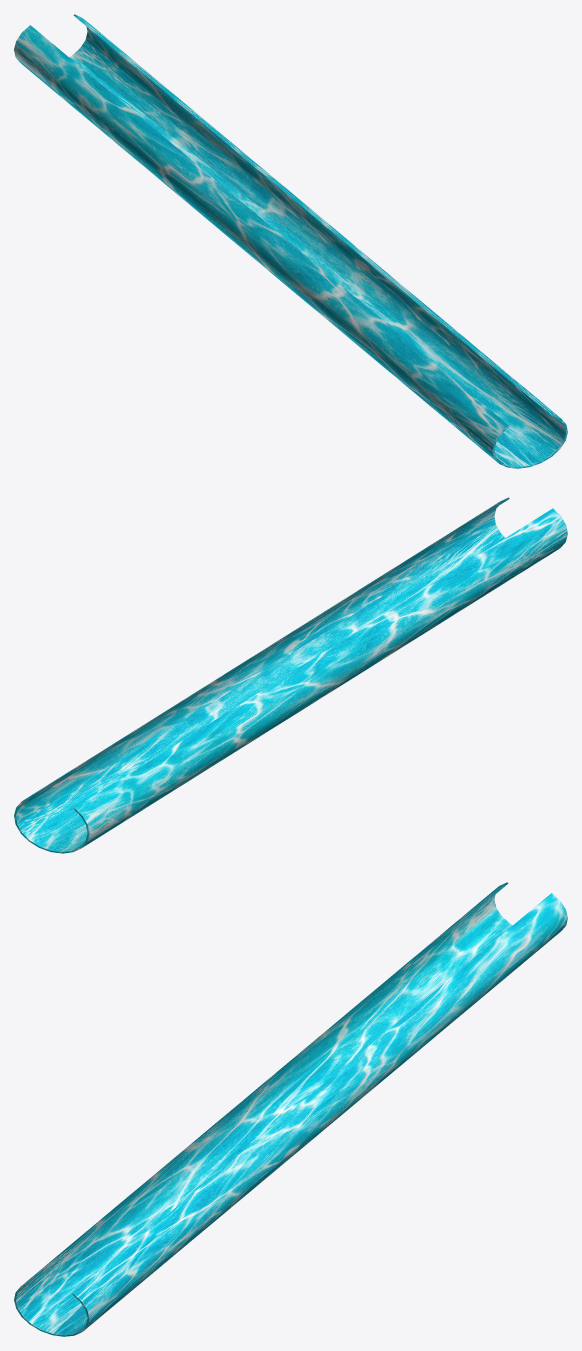
Rendered from tunel.obj.
3 renders of one model, top to bottom at view 1: azimuth 30°, elevation 25°; view 2: azimuth 150°, elevation 25°; view 3: azimuth 330°, elevation 25°, orthographic.
Parts seen in each view (by area): view 1: polySurface30; view 2: polySurface30; view 3: polySurface30.
Part boxes in pixels (x1,y1,x2,y2): polySurface30: (14, 14, 567, 468); polySurface30: (14, 497, 567, 853); polySurface30: (14, 882, 567, 1336).
Size of the model in its own units: 7.35 by 9.18 by 81.07.
